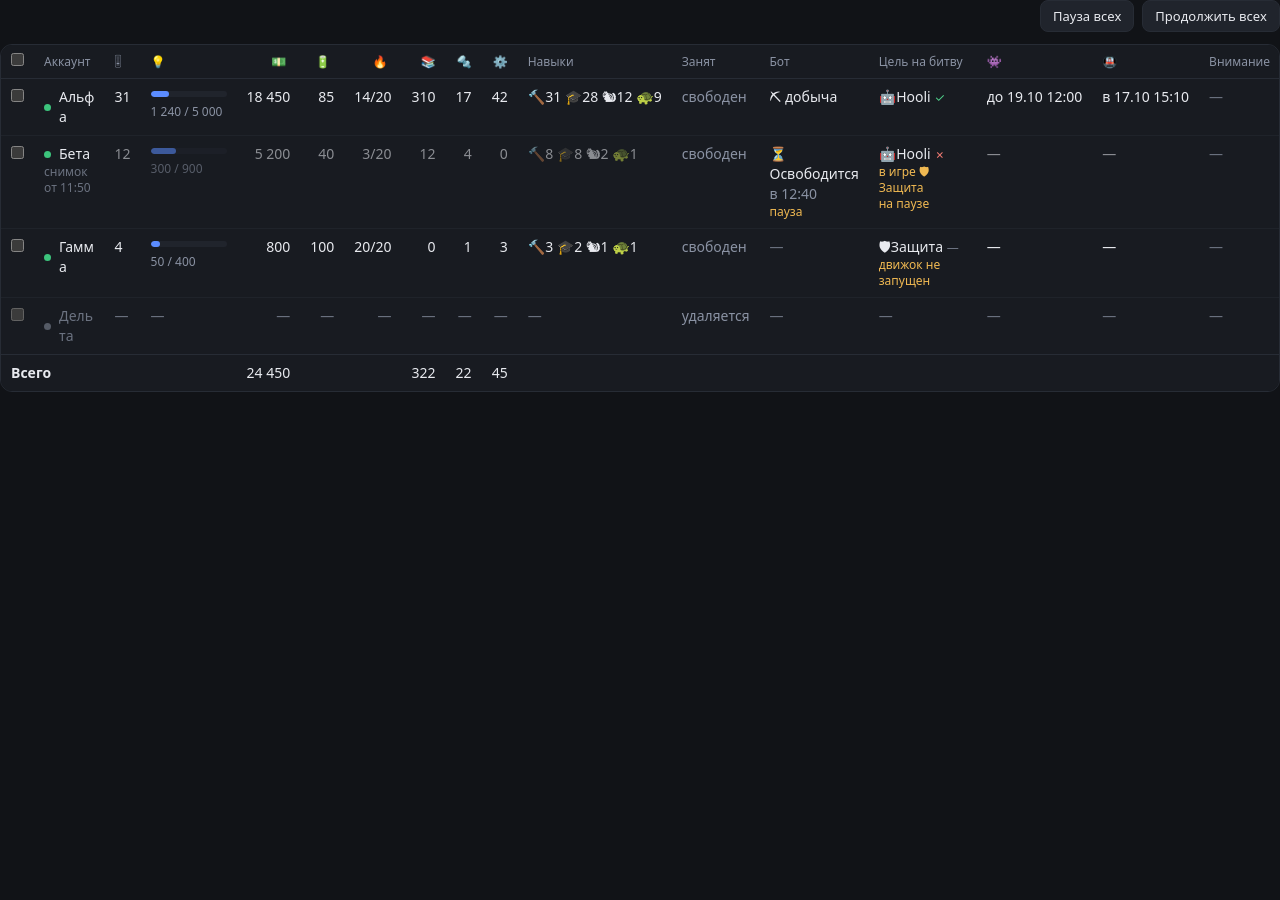
Scenario: пауза и продолжение › «Продолжить» у выбранных шлёт их id без подтверждения
The image size is (1280, 900).
Expected: the table is shown, [1,45,1279,391]
Click the checkbox named "Выбрать Альфа". click: click(18, 96)
box: [11,89,24,102]
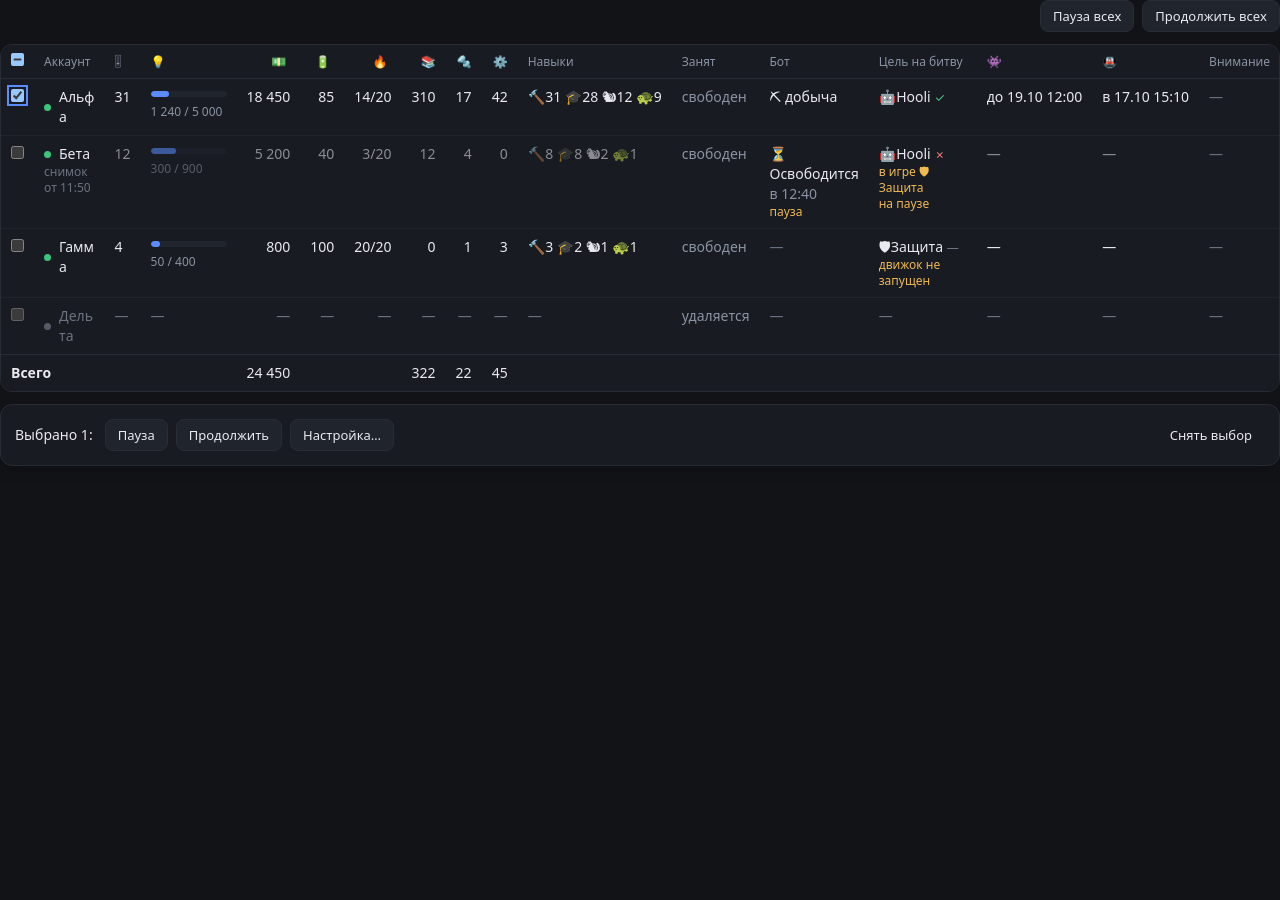
Click the checkbox named "Выбрать Гамма". click: click(18, 246)
box: [11,239,24,252]
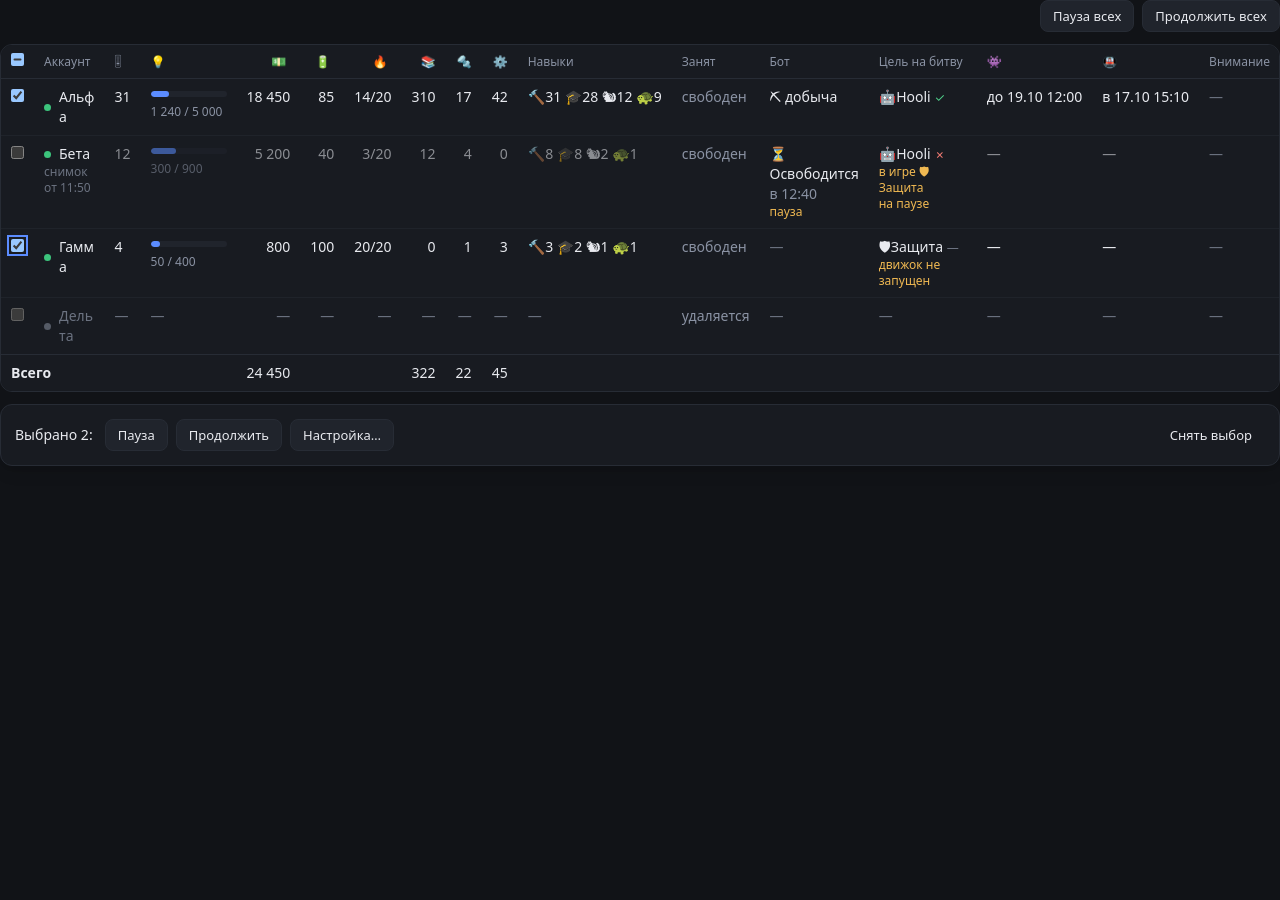
Click the button "Продолжить". click: click(229, 435)
box: [176,419,282,451]
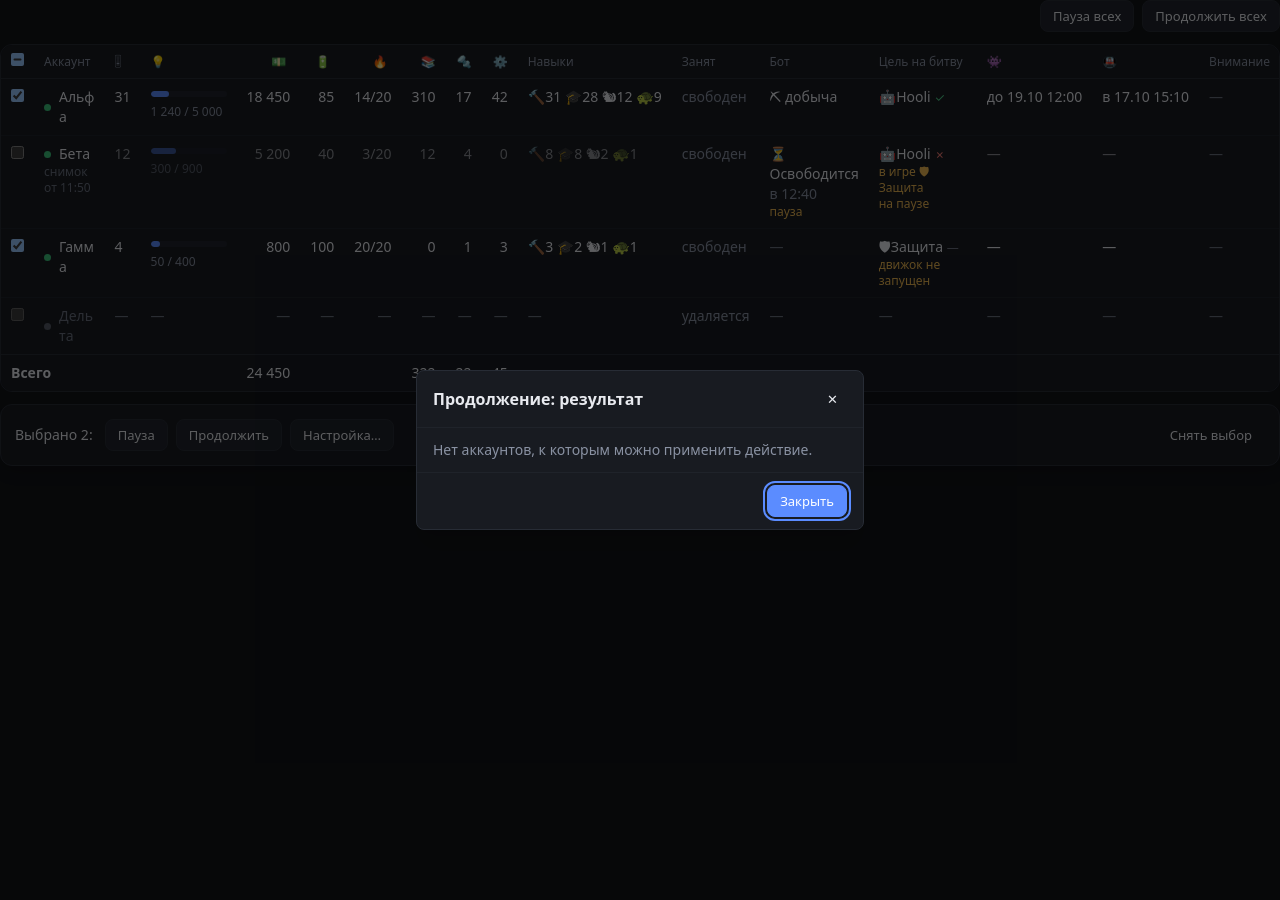
Expected: the dialog "Продолжение: результат" is shown, [416,370,864,530]
